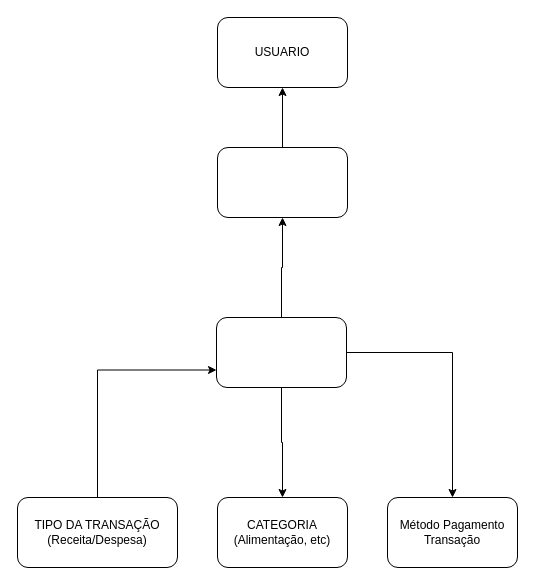
The diagram is 535 pixels wide and 585 high, and some of its shapes have lost their labels. The shapes that lost their labels are listed below. From the top down, each one's box as (x1, y1, x2, y2) in pixels, then its label:
(216, 146, 348, 218): GRUPO DE USUARIO
(216, 316, 346, 388): TRANSAÇÃO
